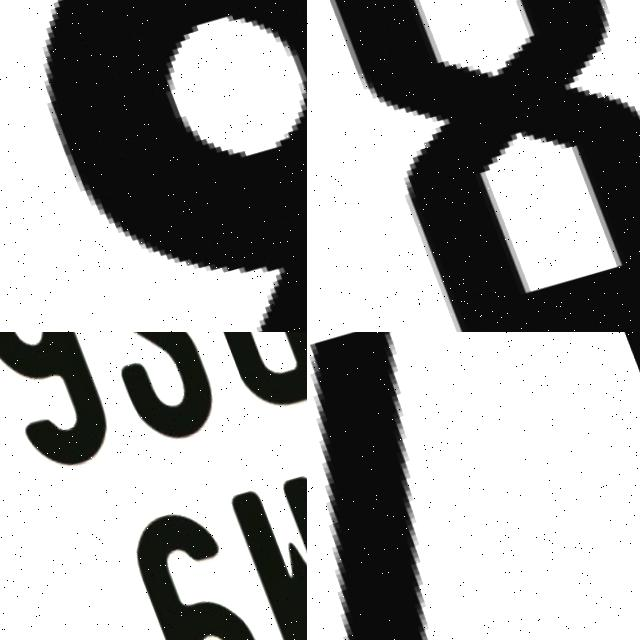6: (0, 0, 307, 332), (0, 332, 116, 478)
7: (307, 332, 640, 640)
8: (307, 0, 640, 332)
9: (110, 497, 286, 640)
M: (212, 464, 307, 640)
R: (152, 332, 307, 417)
S: (49, 332, 226, 448)
